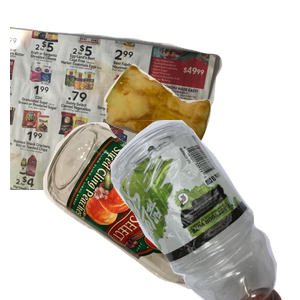glass: (41, 120, 281, 300)
paper: (10, 22, 225, 202)
plastic: (73, 120, 300, 300)
trash: (101, 62, 300, 217)
